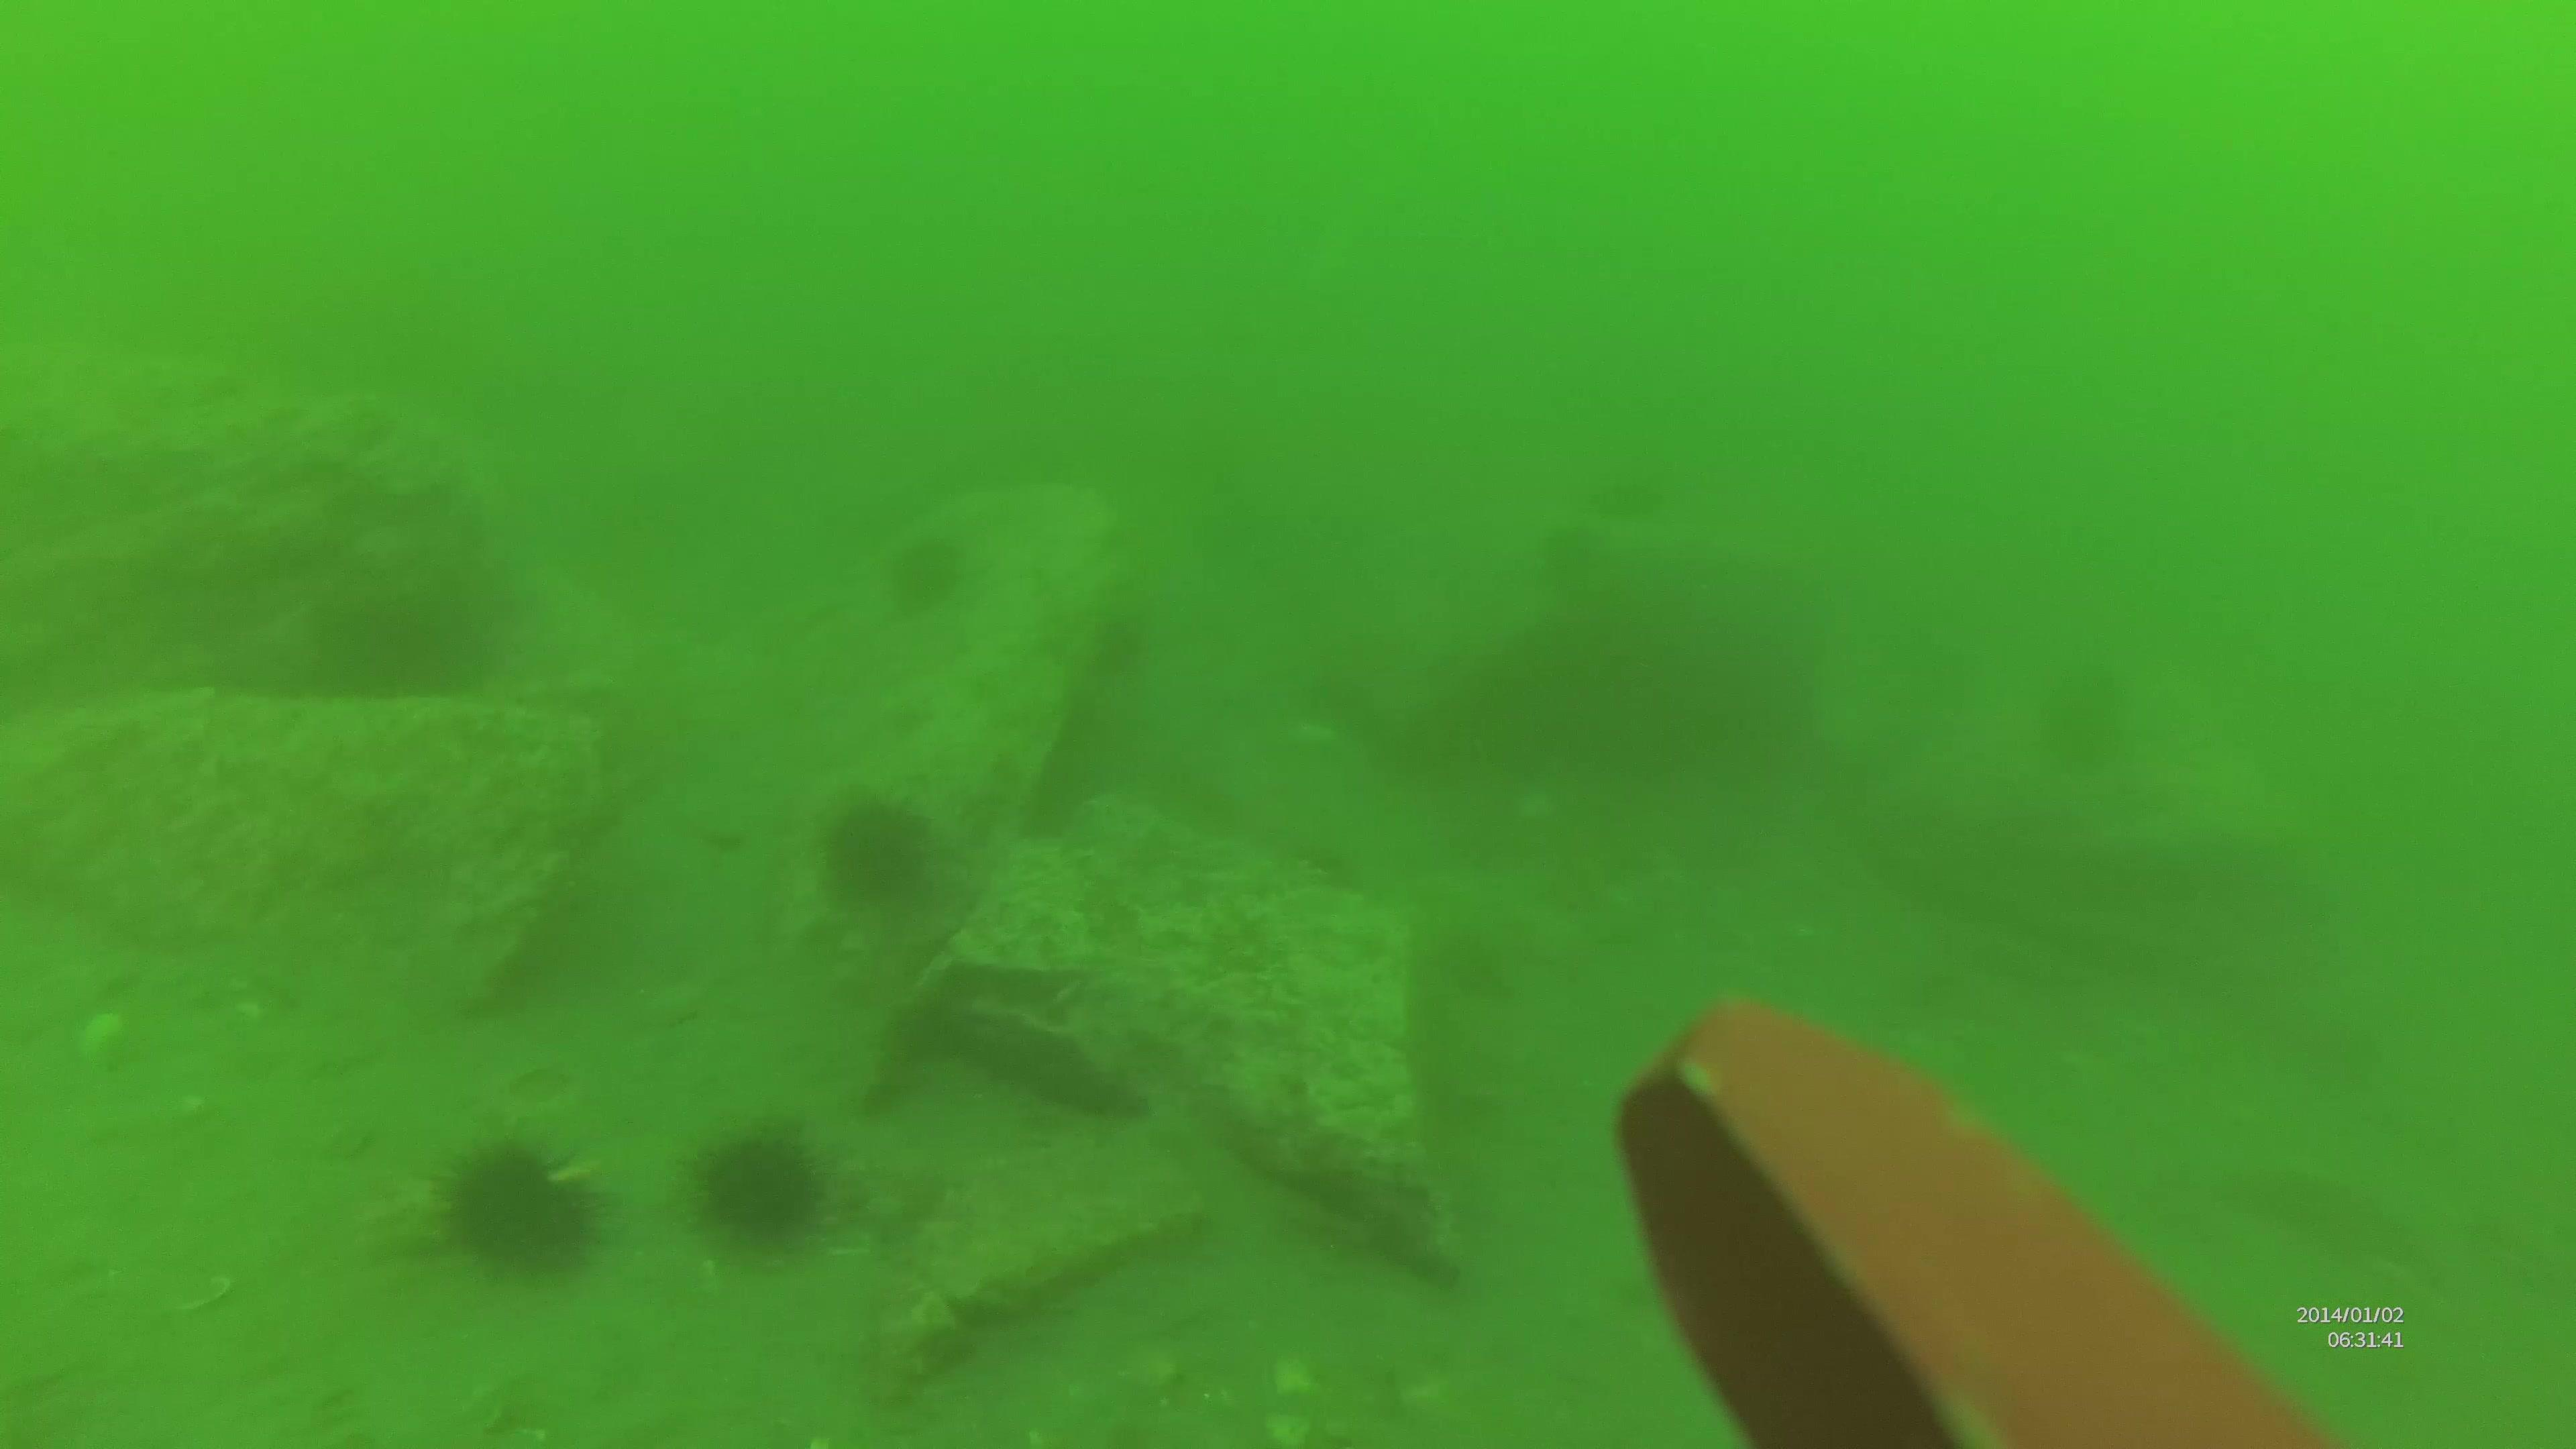echinus: (439, 1136, 610, 1272), (688, 1122, 839, 1249), (322, 594, 502, 699), (819, 789, 938, 913), (885, 527, 973, 619)
